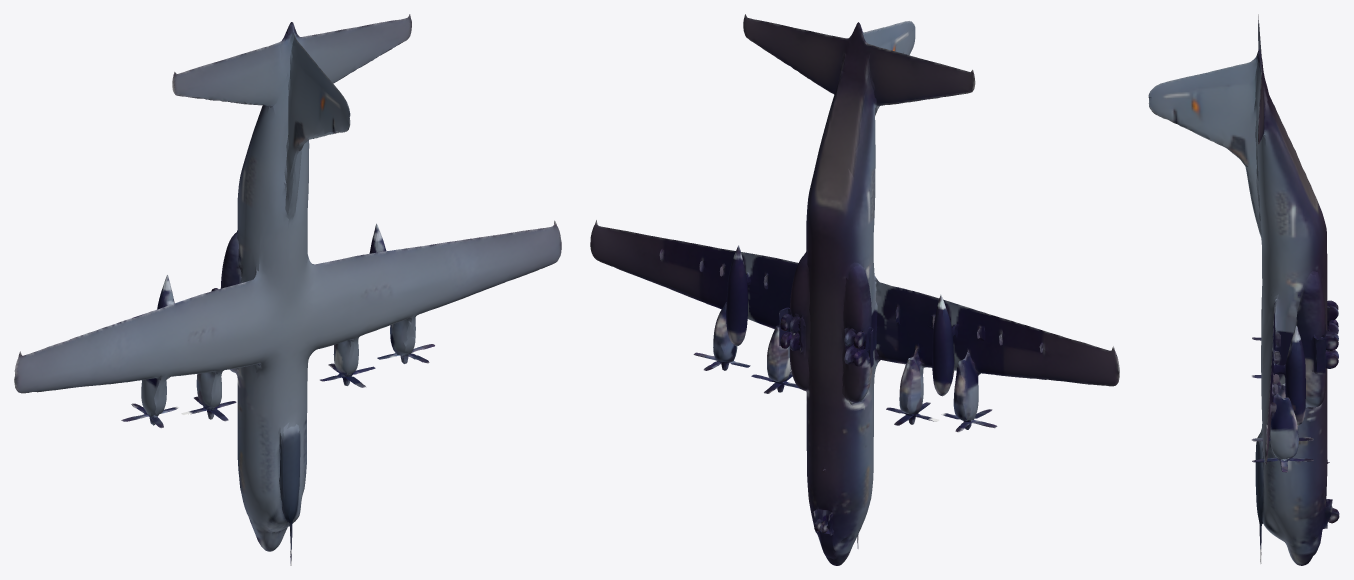
Rendered from C-130J_Super_Hercules_AI_Rodin_before_z_neg90_fix.glb.
3 renders of one model, left to right at view 1: azimuth 30°, elevation 25°; view 2: azimuth 150°, elevation 25°; view 3: azimuth 270°, elevation 25°, orthographic. The views are drawn at different scales.
Parts seen in each view (by area): view 1: C-130J_Super_Hercules; view 2: C-130J_Super_Hercules; view 3: C-130J_Super_Hercules.
Part boxes in pixels (<box>): C-130J_Super_Hercules: <box>14,14,561,565</box>; C-130J_Super_Hercules: <box>590,14,1119,565</box>; C-130J_Super_Hercules: <box>1148,14,1339,565</box>.
Size of the model in its own units: 1.9 by 1.81 by 0.6065.
Materials: 1 (1 with a texture image).
